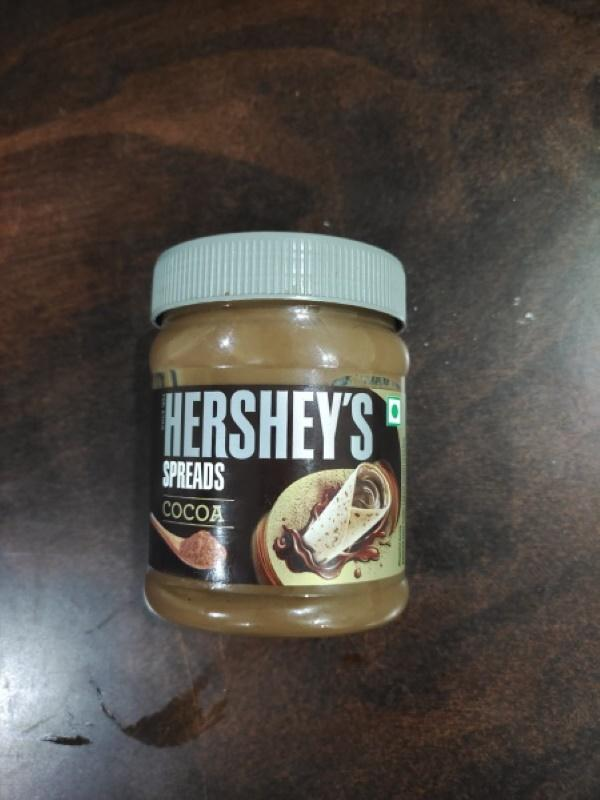Hershey-s: (131, 230, 442, 654)
